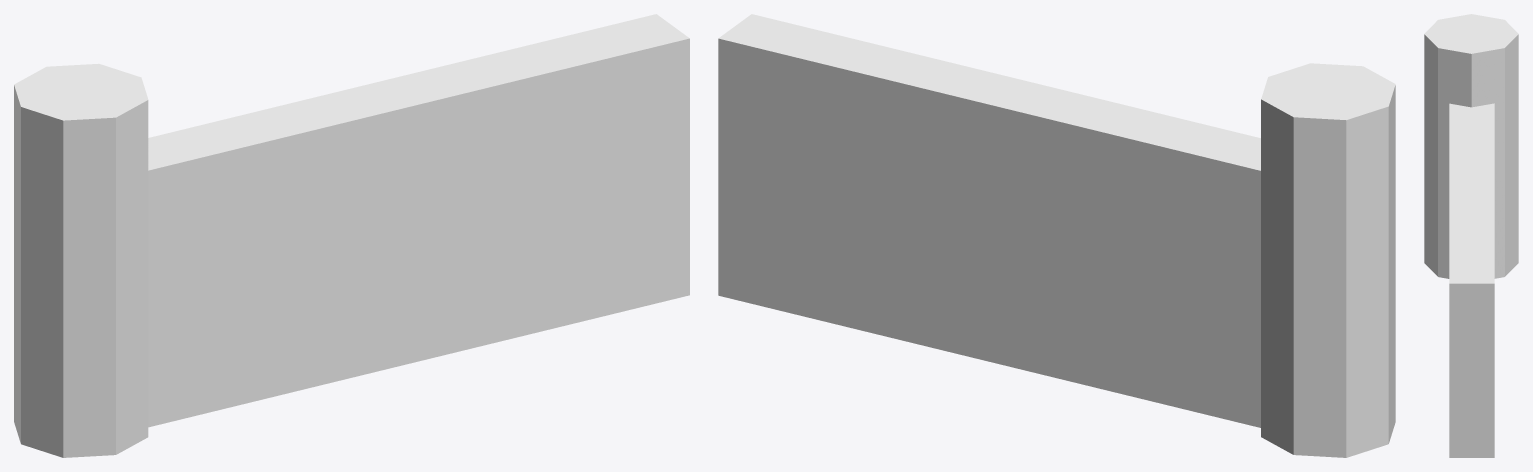
The model's file is out_lane_gate.obj.
3 renders of one model, left to right at view 1: azimuth 30°, elevation 25°; view 2: azimuth 150°, elevation 25°; view 3: azimuth 270°, elevation 25°, orthographic. The views are drawn at different scales.
Visible parts, largest first — view 1: Cube; view 2: Cube; view 3: Cube.
Boxes of the visible parts, box(x1,y1,x2,y2) form: Cube: box(14, 14, 689, 457); Cube: box(718, 14, 1395, 457); Cube: box(1424, 14, 1518, 457).
Size of the model in its own units: 0.6494 by 0.3208 by 0.1199.
Materials: 1 (1 with a texture image).
